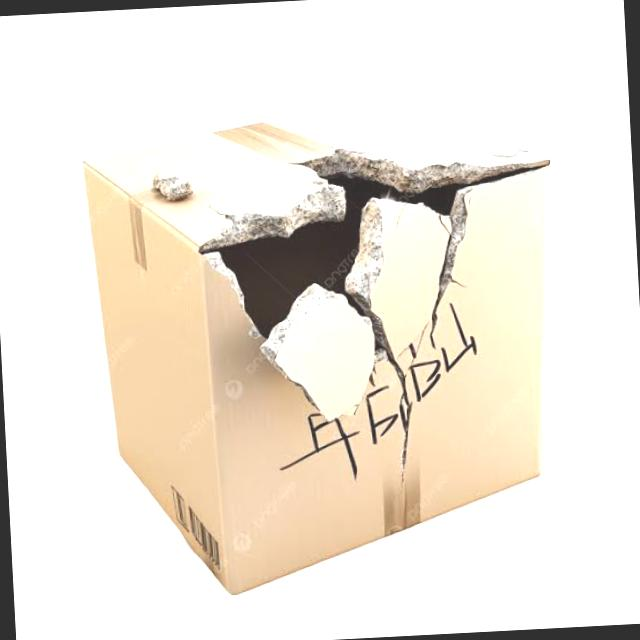package_damage: (147, 123, 570, 493)
